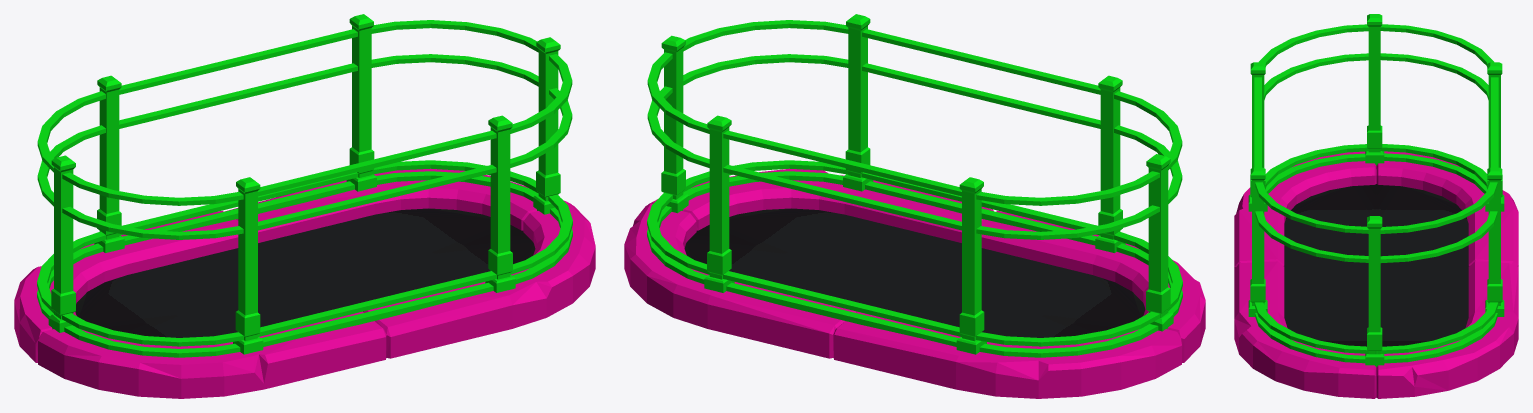
File: City_Fence13.fbx
3 renders of one model, left to right at view 1: azimuth 30°, elevation 25°; view 2: azimuth 150°, elevation 25°; view 3: azimuth 270°, elevation 25°, orthographic. The views are drawn at different scales.
Visible parts, largest first — view 1: SM_City_Fence_05_02a.mo; view 2: SM_City_Fence_05_02a.mo; view 3: SM_City_Fence_05_02a.mo.
Part boxes in pixels (box(x1,y1,x2,y2)): SM_City_Fence_05_02a.mo: box(14, 14, 595, 398); SM_City_Fence_05_02a.mo: box(624, 14, 1205, 398); SM_City_Fence_05_02a.mo: box(1234, 14, 1518, 398).
Size of the model in its own units: 280 by 99.47 by 150.
